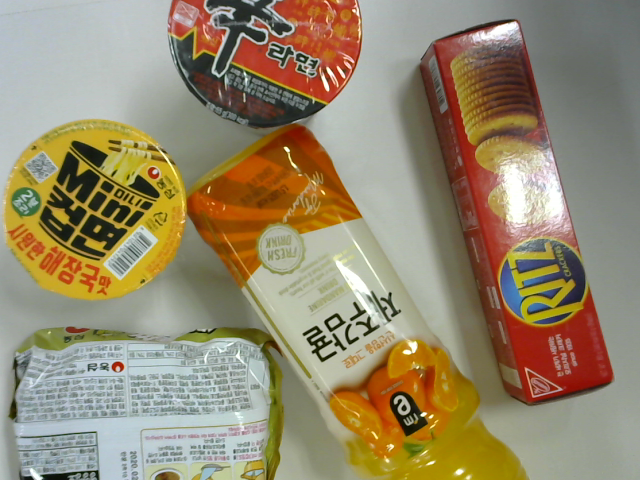Hejangmini: (3, 122, 191, 304)
Jeju_Tangerine_1.5L: (191, 124, 535, 480)
Olive_Chapaghetti: (13, 326, 277, 480)
Ritz_Cracker: (423, 20, 619, 408)
Sinramen_small: (167, 2, 369, 136)
